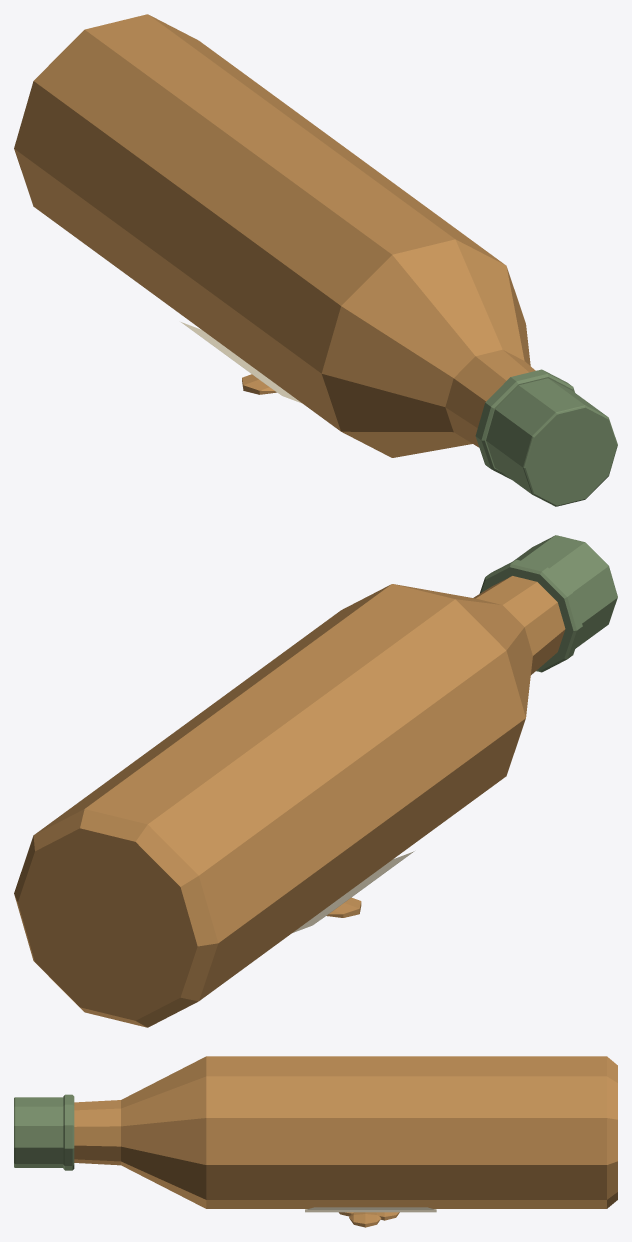
File: ginger_ale.glb
3 renders of one model, top to bottom at view 1: azimuth 30°, elevation 25°; view 2: azimuth 150°, elevation 25°; view 3: azimuth 270°, elevation 25°, orthographic. The views are drawn at different scales.
Visible parts, largest first — view 1: ginger_ale; view 2: ginger_ale; view 3: ginger_ale.
Boxes of the visible parts, x1,y1,x2,y2 form: ginger_ale: (14,14,617,506); ginger_ale: (14,535,617,1027); ginger_ale: (14,1056,617,1227).
Bounding box in the file's own units: 0.056 × 0.0582 × 0.22.
